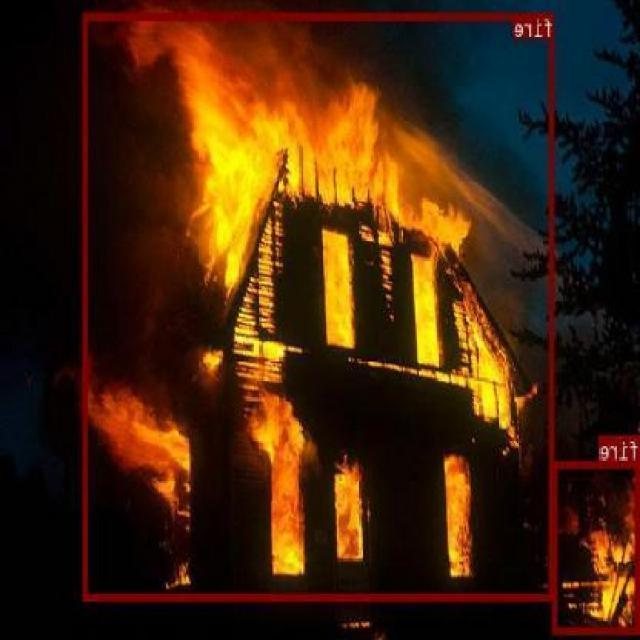Fire: (72, 0, 520, 620), (572, 472, 640, 640)
Smoke: (3, 6, 198, 392), (330, 0, 517, 302)
